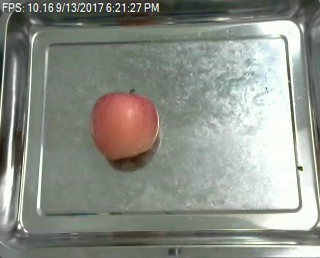Apple: (86, 88, 162, 163)
